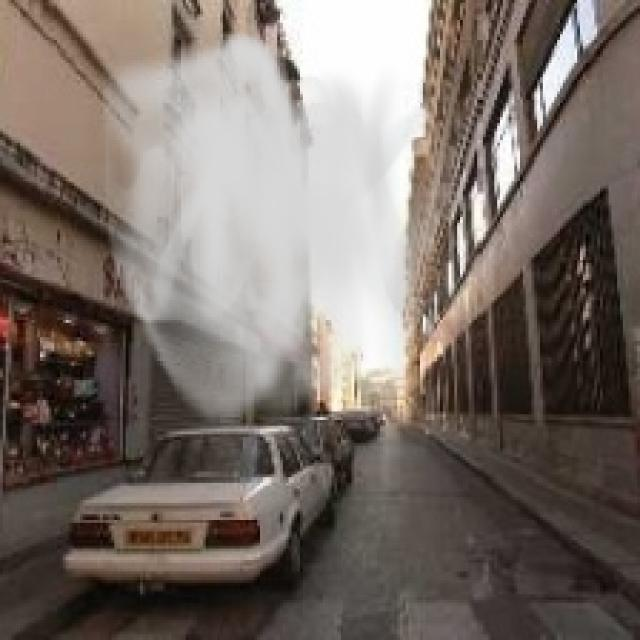Smoke: (91, 29, 463, 438)
